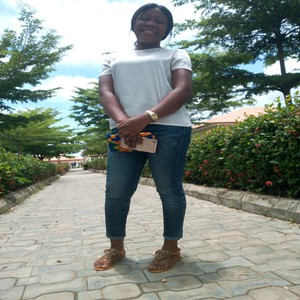Fulokoja_female_student: (111, 3, 194, 265)
